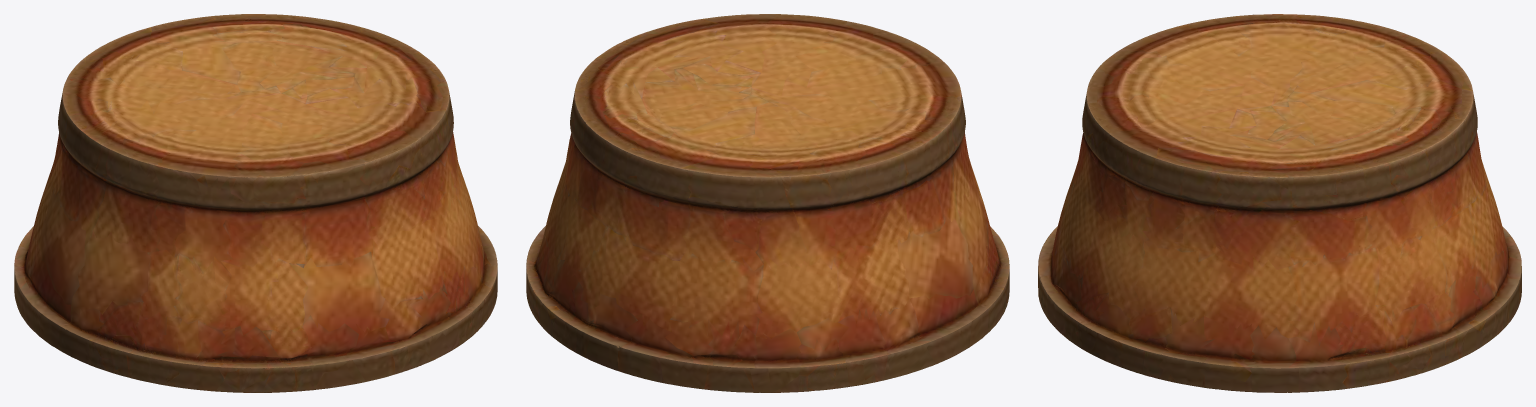
Rendered from p_tambor.glb.
The picture shows the model from 3 angles, left to right: view 1: azimuth 30°, elevation 25°; view 2: azimuth 150°, elevation 25°; view 3: azimuth 270°, elevation 25°; orthographic projection.
Bounding box in the file's own units: 1.9 × 0.859 × 1.9.
1 material, 1 textured.
